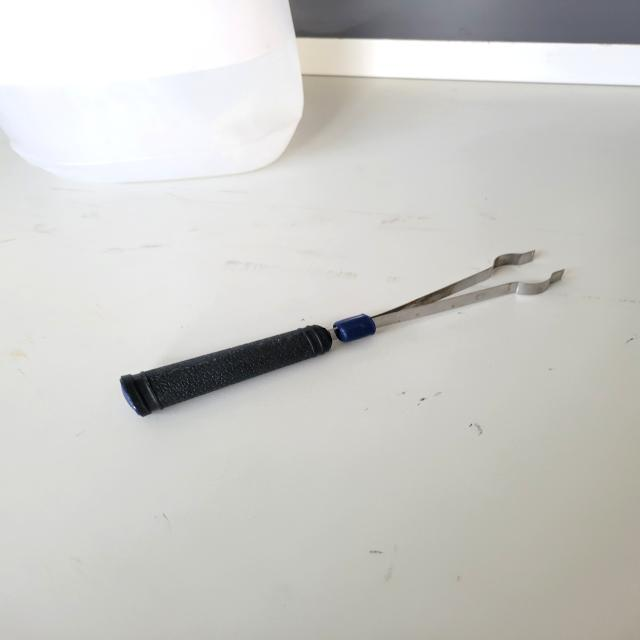TestTube_Holder: (93, 241, 583, 434)
